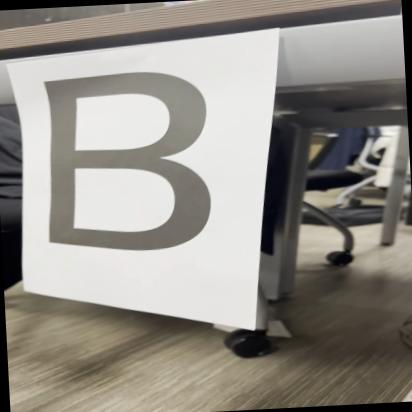seat: (28, 62, 238, 262)
